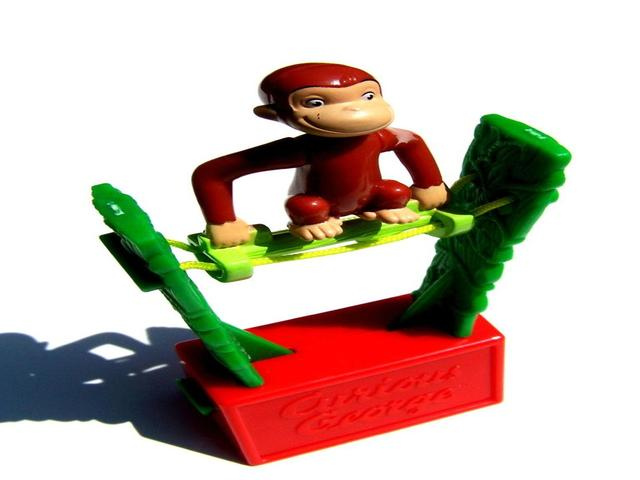monkey: (165, 26, 468, 286)
